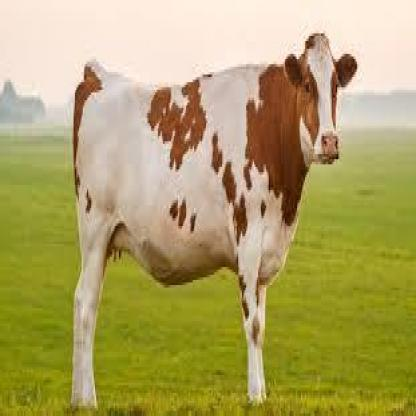cow: (71, 37, 356, 410)
